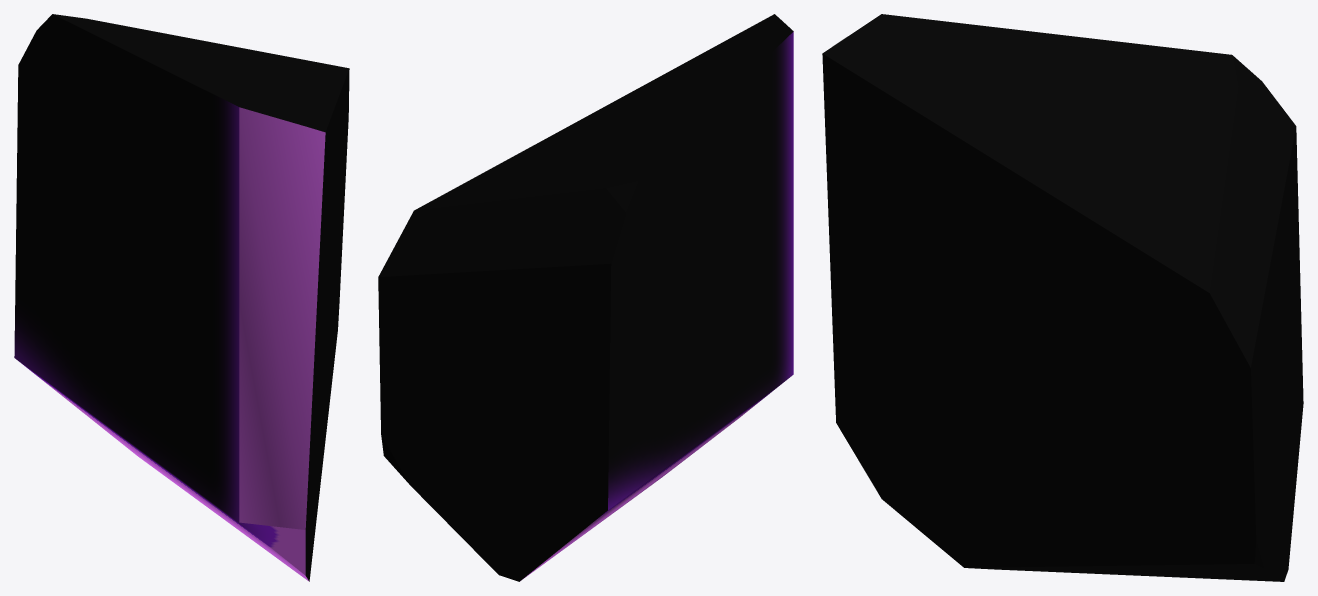
Rendered from blockParticle_17.obj.
The picture shows the model from 3 angles, left to right: view 1: azimuth 30°, elevation 25°; view 2: azimuth 150°, elevation 25°; view 3: azimuth 270°, elevation 25°; orthographic projection. The views are drawn at different scales.
Visible parts, largest first — view 1: 立方体_cell.019; view 2: 立方体_cell.019; view 3: 立方体_cell.019.
Part boxes in pixels (x1,y1,x2,y2): 立方体_cell.019: (14,14,349,581); 立方体_cell.019: (378,14,793,581); 立方体_cell.019: (822,14,1303,581).
Bounding box in the file's own units: 0.563 × 0.9416 × 0.8166.
Materials: 2 (2 with a texture image).
